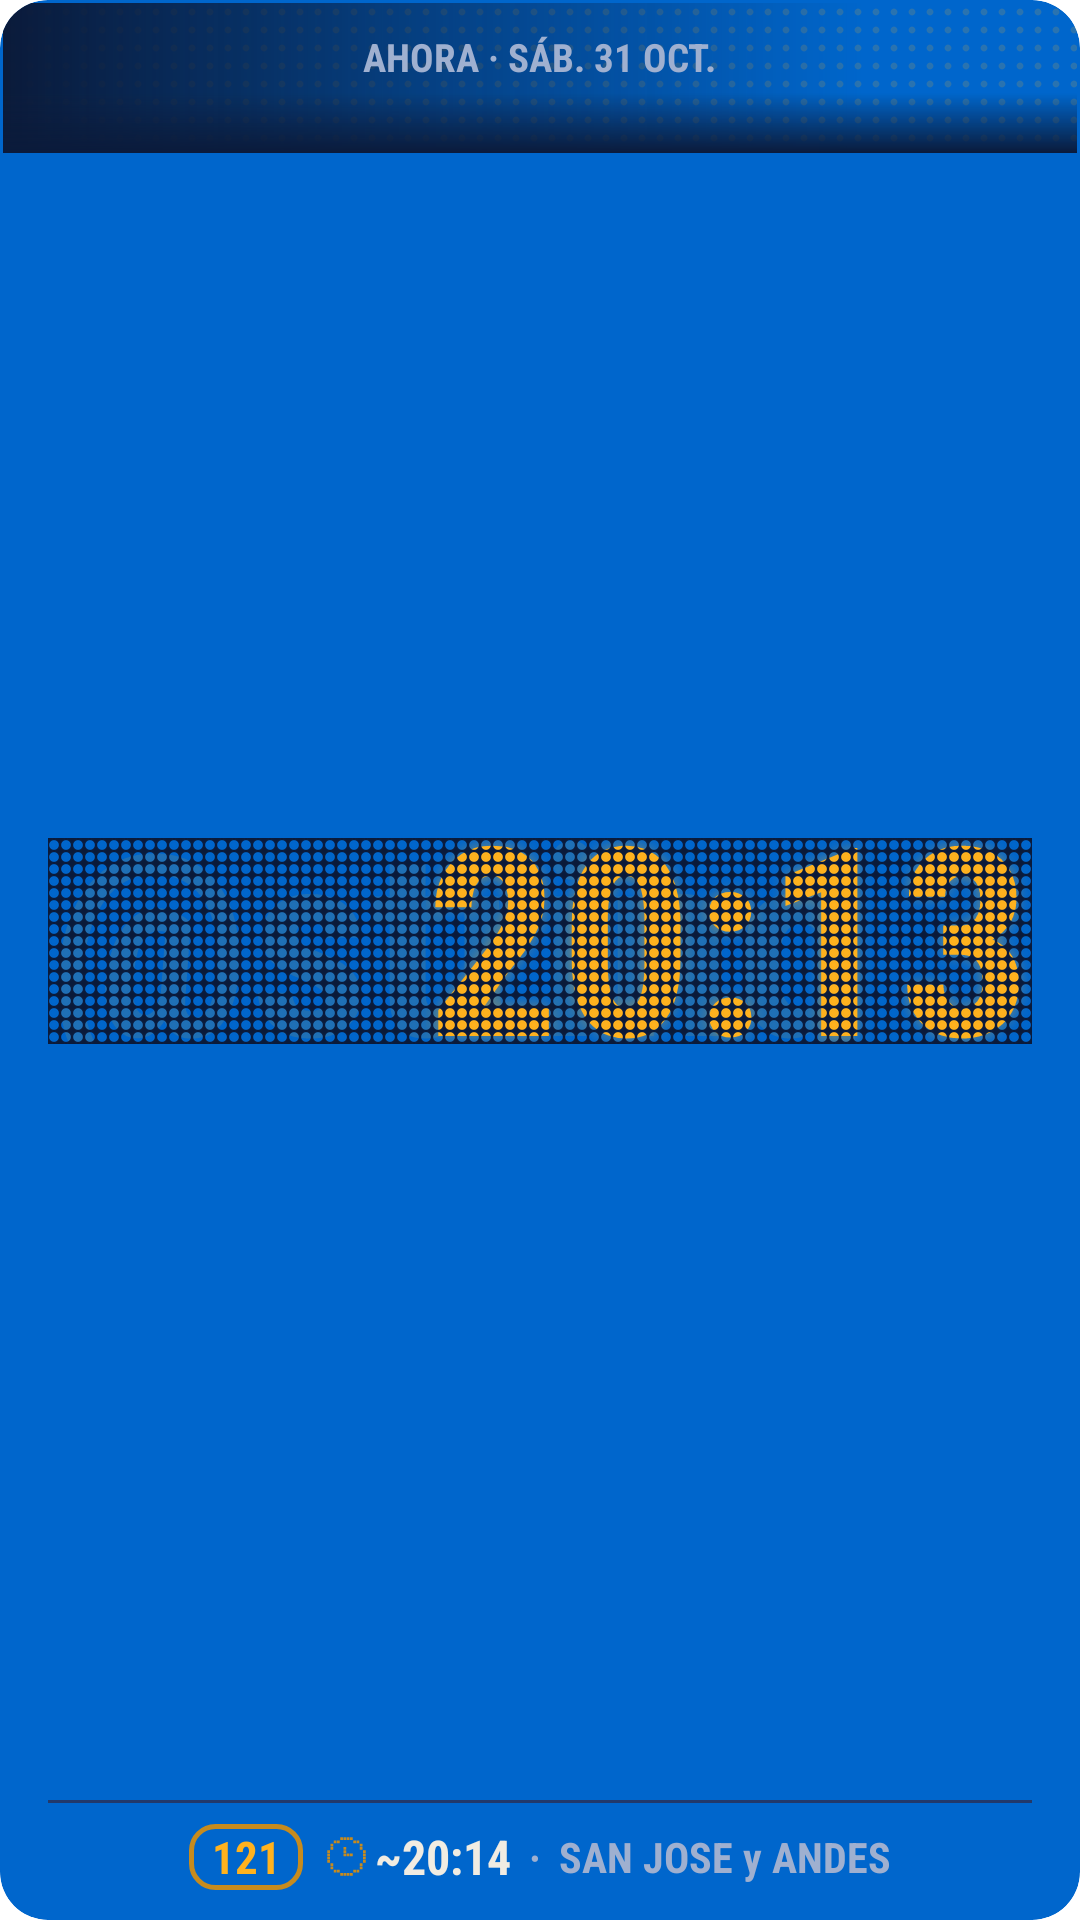

Icons on this 1080 × 1920 Android screen, each with the point to tap as (x=x, y=y):
widget clock dim: (x=346, y=1856)
